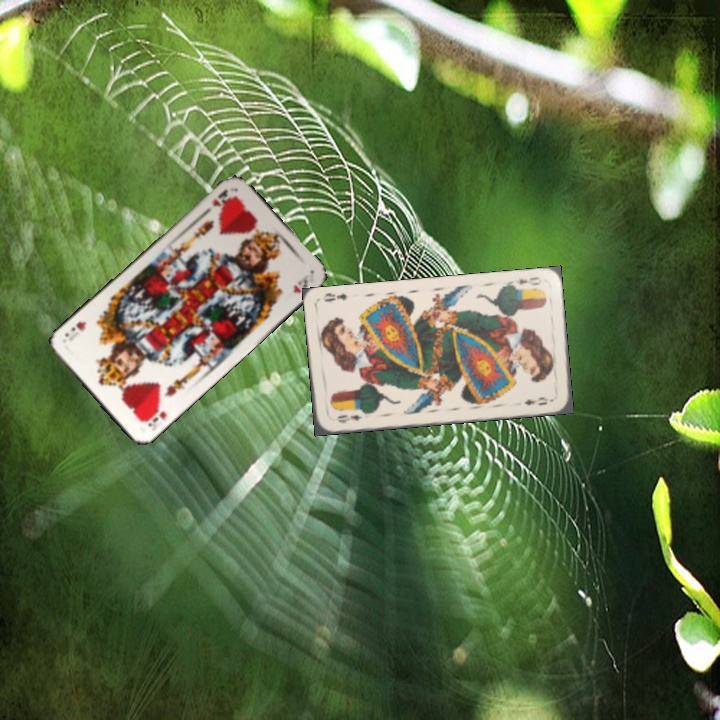EO: (505, 273, 544, 292), (334, 411, 365, 426)
HK: (138, 402, 169, 429), (208, 185, 234, 209)
